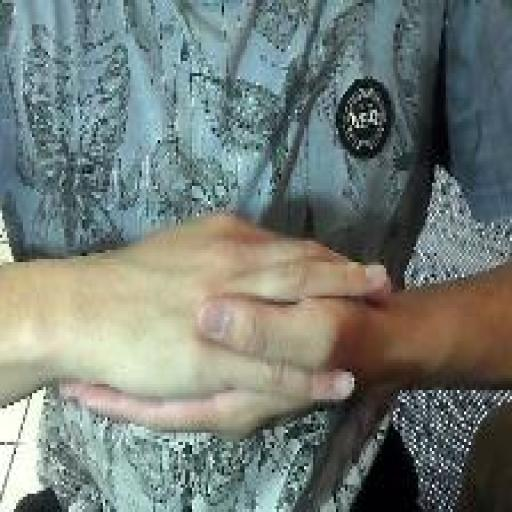Saru -monkey-: (55, 206, 395, 452)
